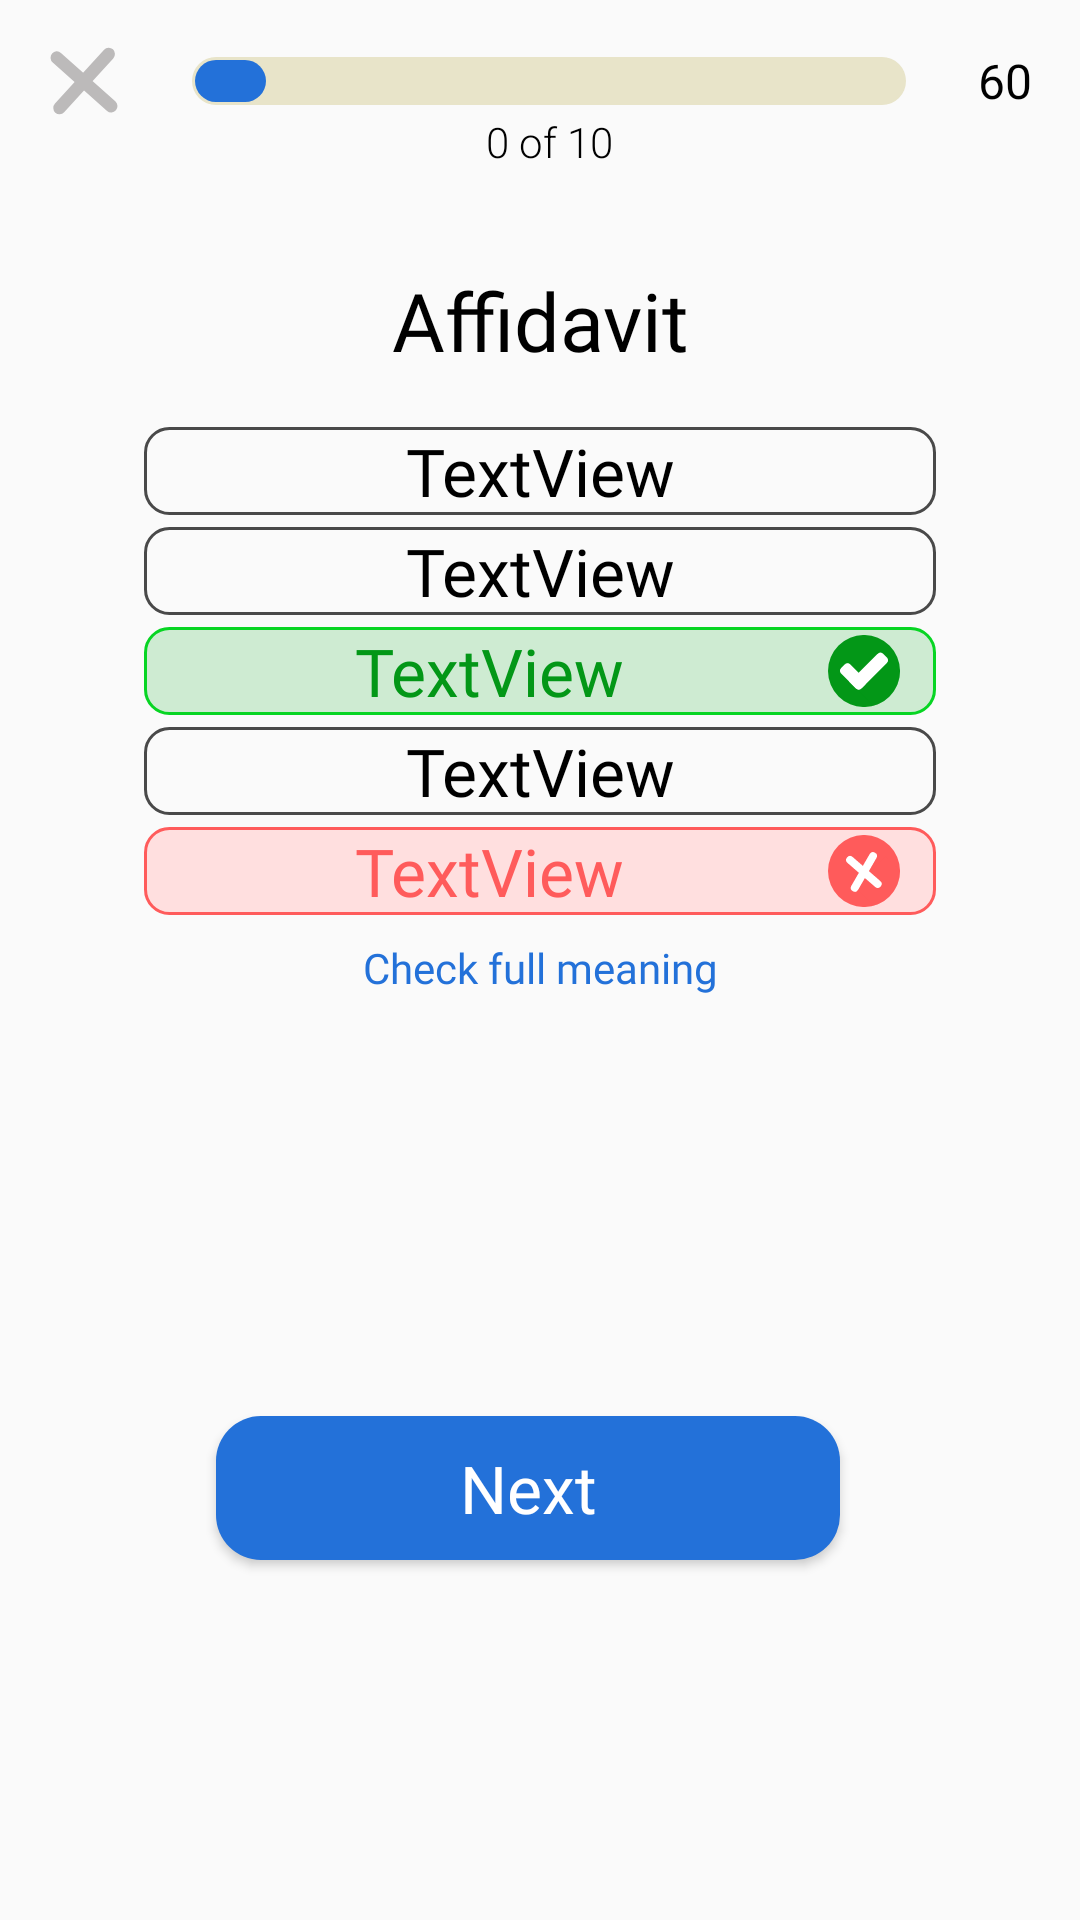

Named icons in this screenshot (1080 x 1920) and their centers, point (x, y):
cancel: point (83, 81)
